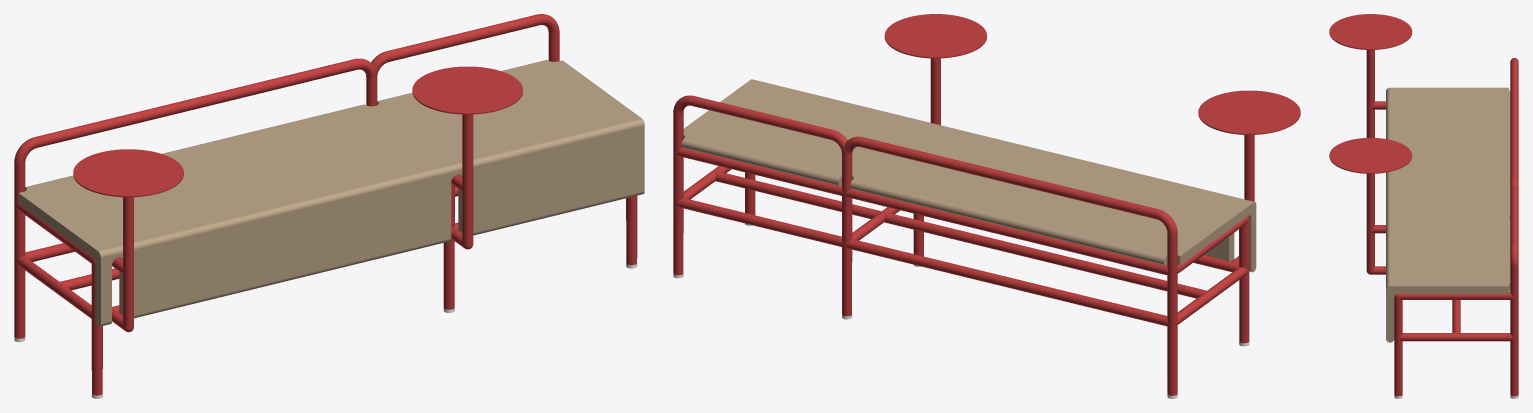
The model's file is TheMinersBench-wMaterials.glb.
The picture shows the model from 3 angles, left to right: view 1: azimuth 30°, elevation 25°; view 2: azimuth 150°, elevation 25°; view 3: azimuth 270°, elevation 25°; orthographic projection. The views are drawn at different scales.
Size of the model in its own units: 1.8 by 0.7 by 0.685.
